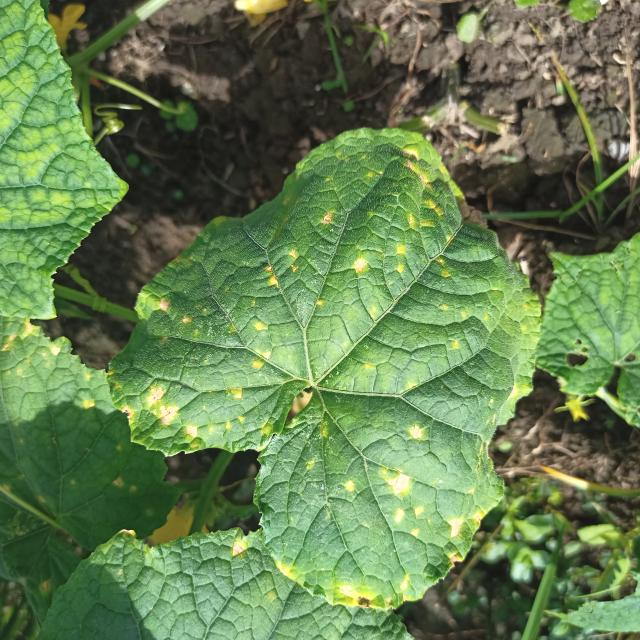disease_cucumber: (117, 140, 524, 606)
